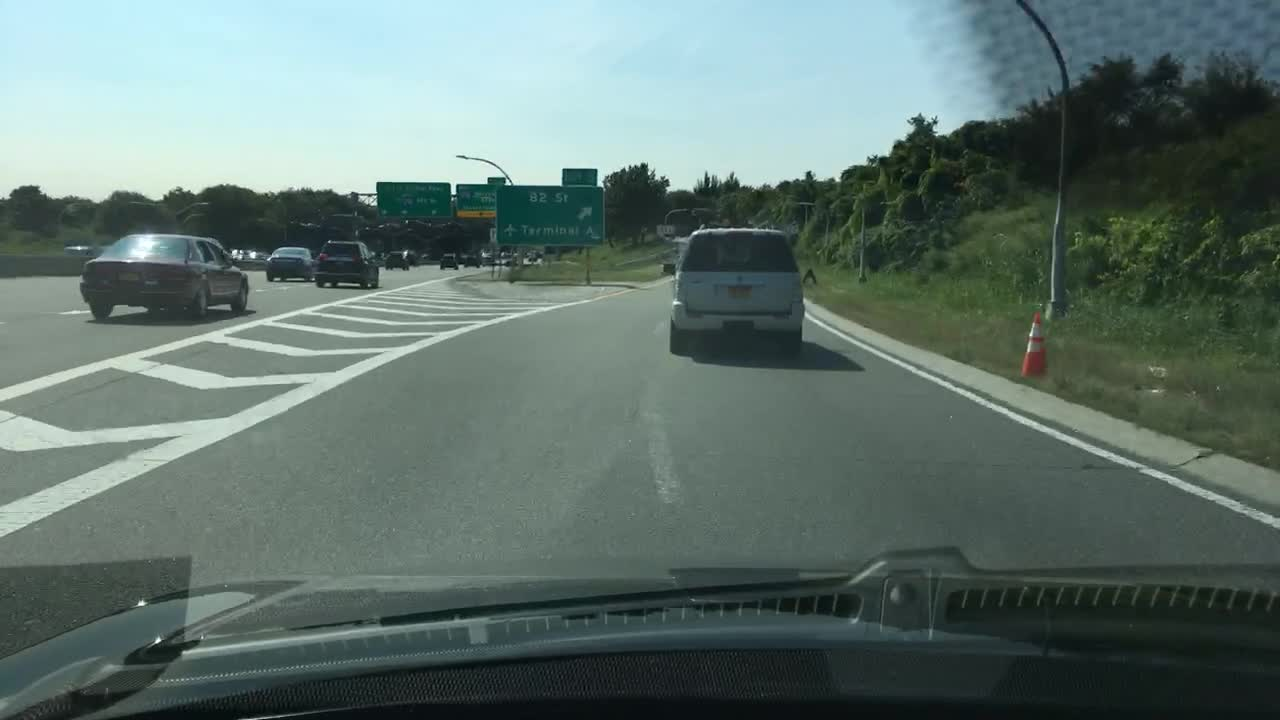car: (659, 226, 805, 356), (80, 232, 248, 322), (312, 236, 381, 290), (263, 244, 317, 283), (381, 248, 411, 269), (436, 250, 459, 272), (400, 248, 421, 269), (246, 247, 269, 263), (463, 251, 480, 269), (228, 245, 243, 263), (496, 251, 511, 266), (525, 250, 541, 263), (480, 253, 496, 266), (456, 253, 469, 268), (510, 250, 520, 266), (535, 248, 549, 257)
traffic sign: (493, 182, 606, 247), (375, 179, 451, 221), (451, 181, 498, 220), (559, 167, 598, 187), (655, 221, 673, 236), (484, 173, 504, 185)
